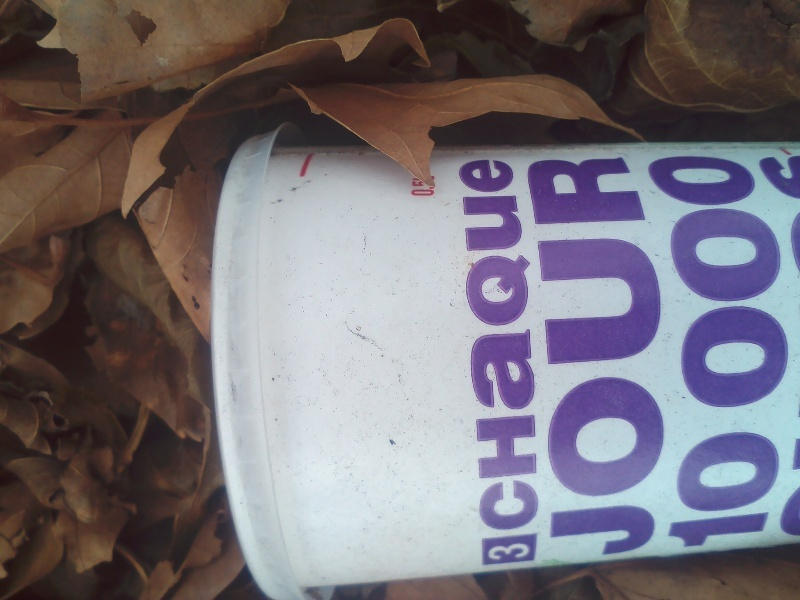text: (529, 147, 544, 564), (545, 147, 560, 564), (561, 147, 576, 564), (577, 147, 592, 564), (593, 147, 608, 564), (609, 147, 624, 564), (625, 147, 640, 564), (641, 147, 656, 564), (657, 147, 672, 564), (465, 157, 480, 536), (481, 157, 496, 536), (497, 157, 512, 536), (513, 157, 528, 536), (529, 157, 544, 536), (657, 143, 672, 423), (673, 143, 688, 423), (689, 143, 704, 423), (705, 143, 720, 423), (721, 143, 736, 423), (737, 143, 752, 423), (753, 143, 768, 423), (769, 143, 784, 423), (785, 143, 800, 423), (642, 143, 656, 423), (454, 157, 464, 536), (673, 147, 680, 564), (689, 423, 704, 551), (705, 423, 720, 551), (721, 423, 736, 551), (737, 423, 752, 551), (753, 423, 768, 551), (769, 423, 784, 551), (678, 423, 688, 551), (545, 157, 547, 536), (417, 173, 432, 199), (497, 542, 512, 563), (513, 542, 528, 563), (486, 542, 496, 563), (433, 173, 438, 199), (799, 153, 800, 277), (529, 542, 531, 563), (415, 173, 416, 199)
